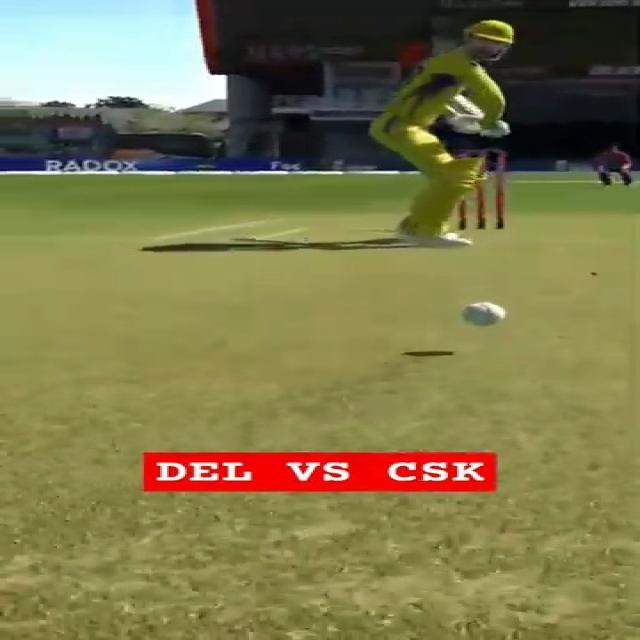ball: (459, 302, 507, 326)
